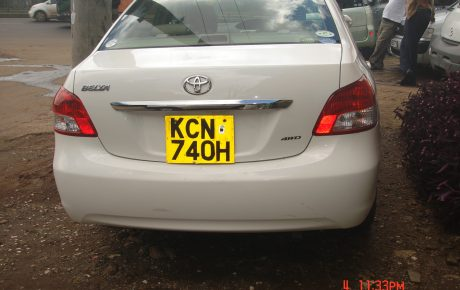licencePlate: (164, 110, 240, 168)
